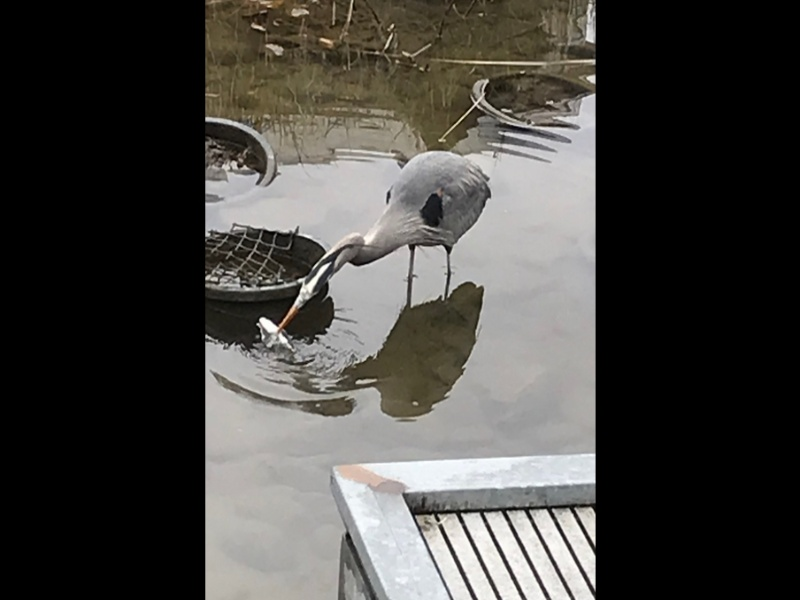heron: (272, 140, 496, 353)
